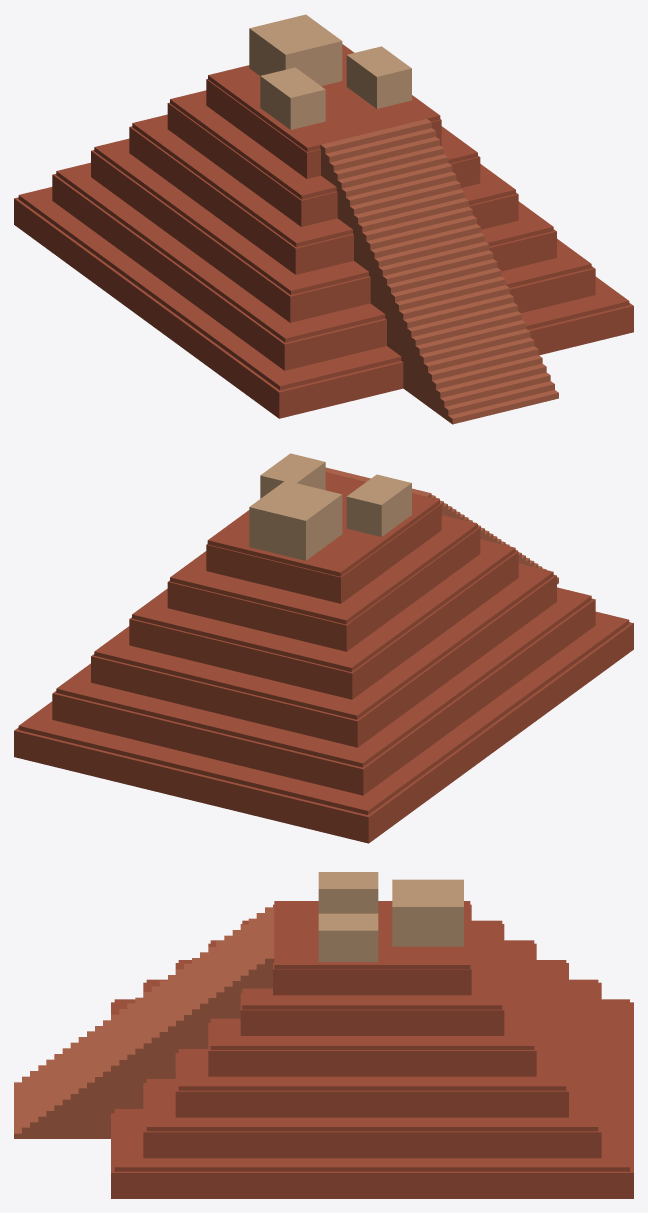
The model's file is meso-calakmul-ii.glb.
3 views of the same model, one above another, from view 1: azimuth 30°, elevation 25°; view 2: azimuth 150°, elevation 25°; view 3: azimuth 270°, elevation 25° (orthographic).
Parts seen in each view (by area): view 1: meso-body, meso-stair, meso-shrine; view 2: meso-body, meso-shrine, meso-stair; view 3: meso-body, meso-stair, meso-shrine.
Part boxes in pixels (<box>): meso-body: <box>14,44,633,418</box>; meso-stair: <box>320,119,558,424</box>; meso-shrine: <box>249,14,411,129</box>; meso-body: <box>14,472,633,843</box>; meso-shrine: <box>249,453,411,560</box>; meso-stair: <box>325,467,558,584</box>; meso-body: <box>111,901,633,1198</box>; meso-stair: <box>14,907,274,1138</box>; meso-shrine: <box>318,872,463,961</box>.
Bounding box in the file's own units: 58.39 × 35.1 × 89.6.
